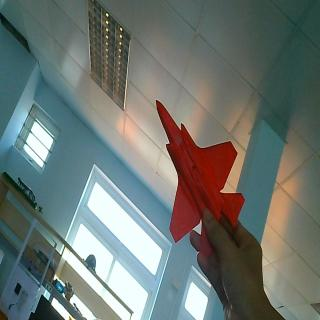Jet: (154, 97, 244, 241)
